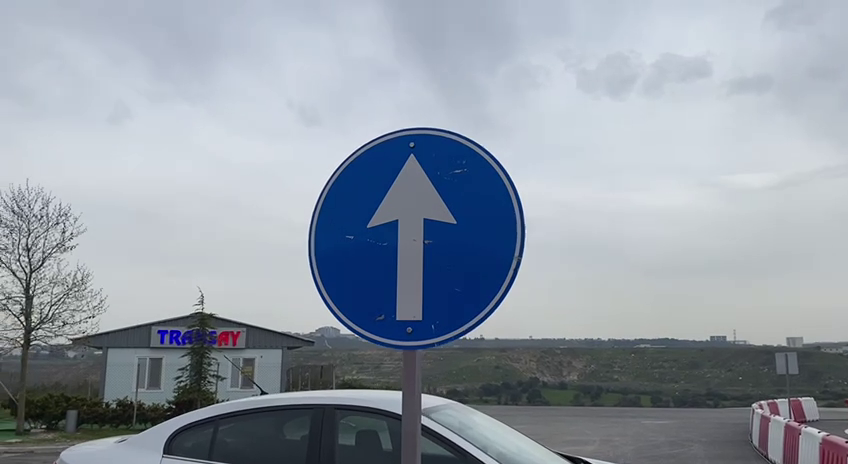forward: (306, 124, 527, 354)
